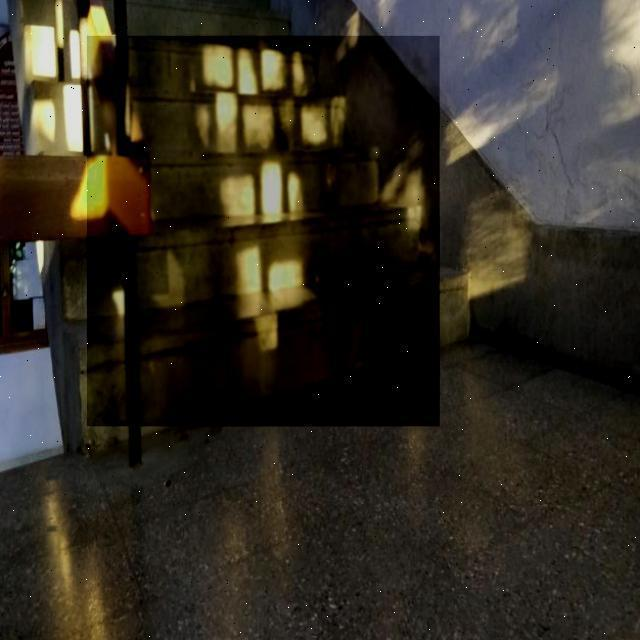stair: (87, 36, 440, 426)
